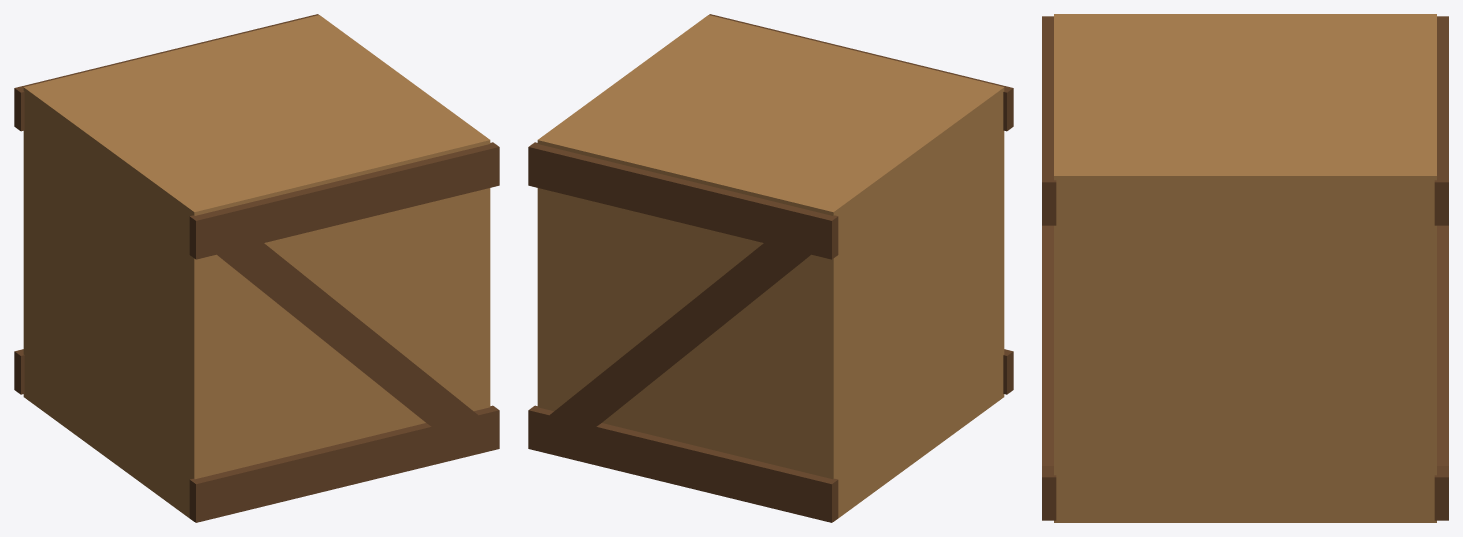
File: crate.glb
3 renders of one model, left to right at view 1: azimuth 30°, elevation 25°; view 2: azimuth 150°, elevation 25°; view 3: azimuth 270°, elevation 25°, orthographic. The views are drawn at different scales.
Parts seen in each view (by area): view 1: crate; view 2: crate; view 3: crate.
Part boxes in pixels (left/top/right/bottom): crate: left=14, top=14, right=499, bottom=522; crate: left=528, top=14, right=1013, bottom=522; crate: left=1042, top=14, right=1448, bottom=522.
Size of the model in its own units: 0.82 by 0.8 by 0.85.
